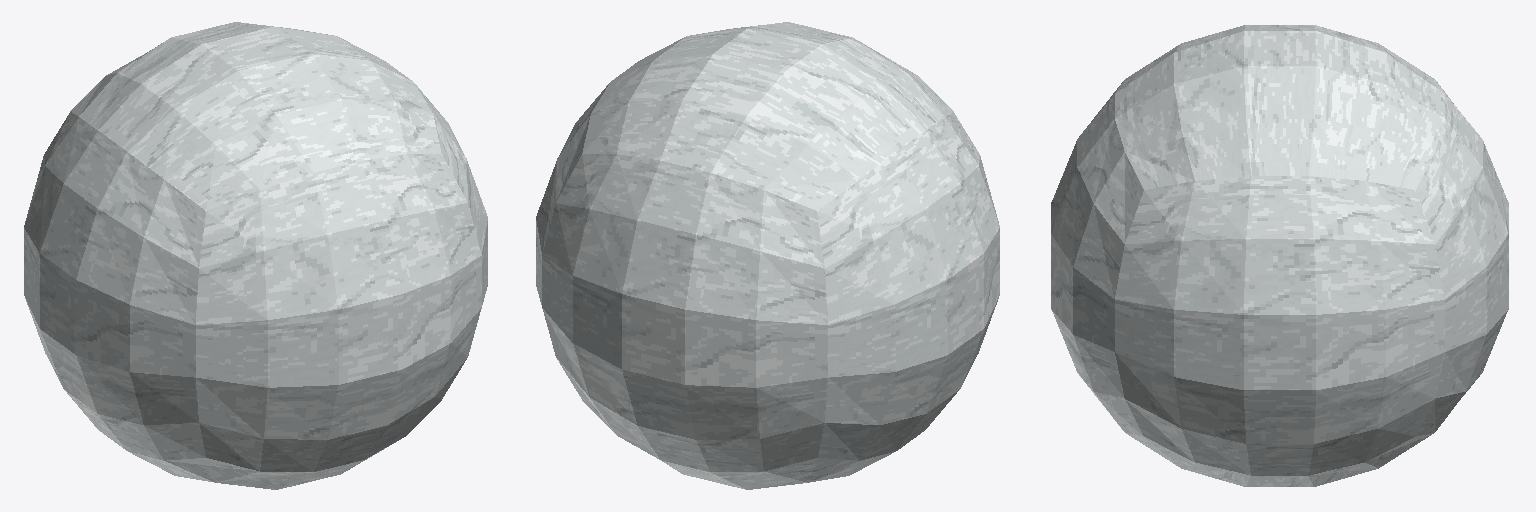
The picture shows the model from 3 angles: view 1: azimuth 30°, elevation 25°; view 2: azimuth 150°, elevation 25°; view 3: azimuth 270°, elevation 25°; orthographic projection.
Parts seen in each view (by area): view 1: 300.018; view 2: 300.018; view 3: 300.018.
Boxes of the visible parts, <box> form: 300.018: <box>24,22,487,489</box>; 300.018: <box>536,22,999,489</box>; 300.018: <box>1051,25,1508,486</box>.
Bounding box in the file's own units: 3.36 × 3.36 × 3.36.
1 materials, 1 textured.